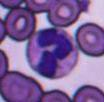N: (25, 28, 78, 79)
